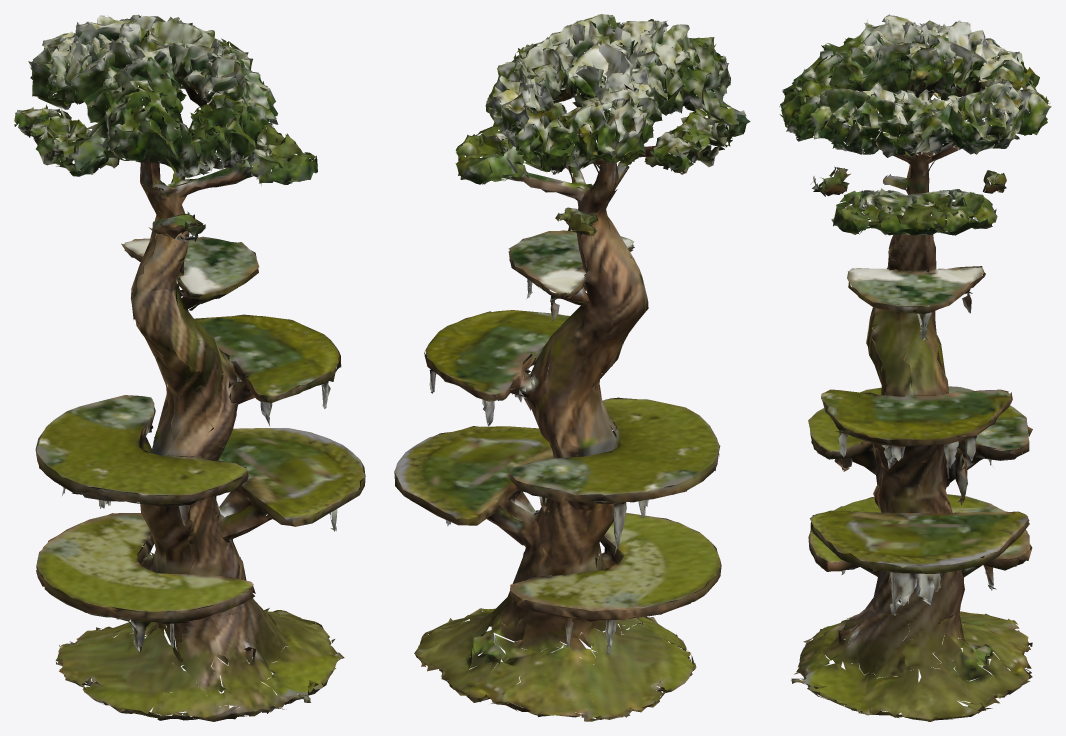
File: F3D_06_RootPlatforms.fbx
3 views of the same model, side by side, from view 1: azimuth 30°, elevation 25°; view 2: azimuth 150°, elevation 25°; view 3: azimuth 270°, elevation 25° (orthographic). The views are drawn at different scales.
Parts seen in each view (by area): view 1: F3D_06_RootPlatforms; view 2: F3D_06_RootPlatforms; view 3: F3D_06_RootPlatforms.
Part boxes in pixels (<box>): F3D_06_RootPlatforms: <box>14,14,365,721</box>; F3D_06_RootPlatforms: <box>394,14,750,721</box>; F3D_06_RootPlatforms: <box>779,14,1051,721</box>.
Size of the model in its own units: 0.4915 by 1 by 0.4027.
